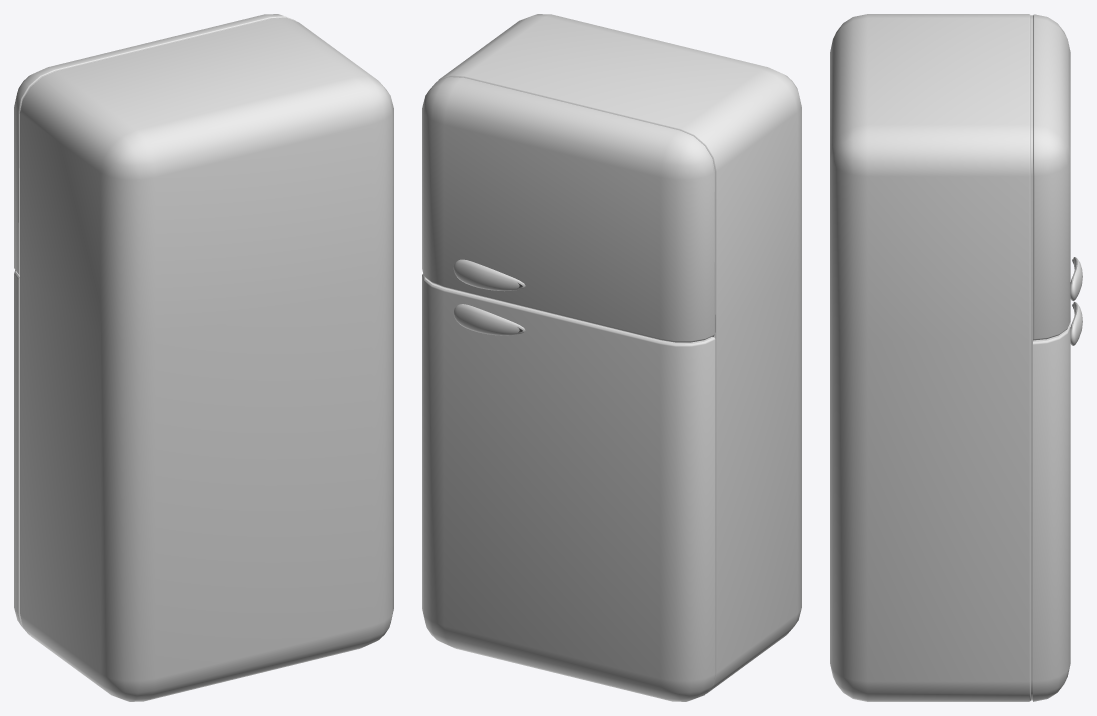
Rendered from Fridge.fbx.
3 views of the same model, side by side, from view 1: azimuth 30°, elevation 25°; view 2: azimuth 150°, elevation 25°; view 3: azimuth 270°, elevation 25° (orthographic).
Parts seen in each view (by area): view 1: Fridge; view 2: Fridge; view 3: Fridge.
Part boxes in pixels (x1,y1,x2,y2): Fridge: (14, 14, 393, 701); Fridge: (422, 14, 801, 701); Fridge: (830, 14, 1082, 701).
Bounding box in the file's own units: 334 × 627 × 251.
